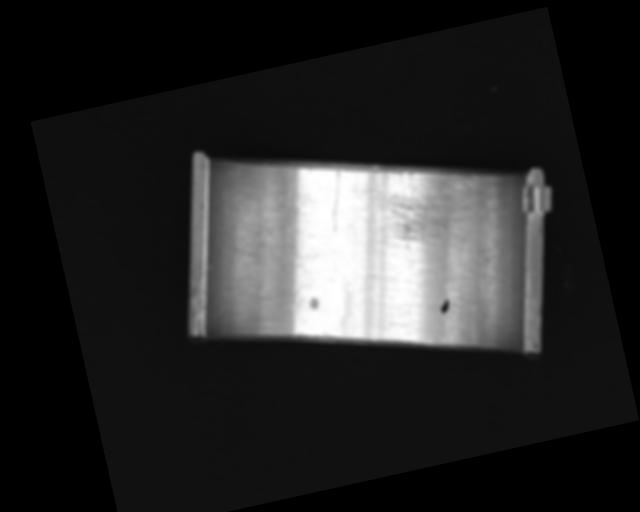blot: (438, 297, 451, 314)
bruise: (308, 296, 320, 311)
nick: (205, 245, 264, 335), (321, 169, 352, 232)
scratch: (362, 147, 489, 255)
